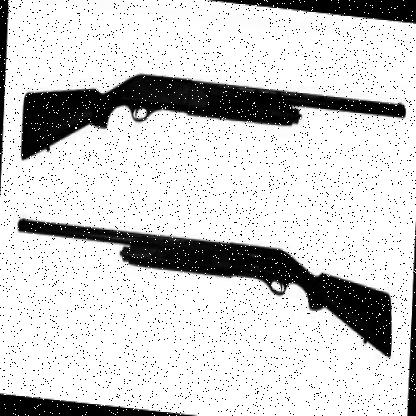rifle: (9, 210, 397, 359), (23, 55, 405, 200)
